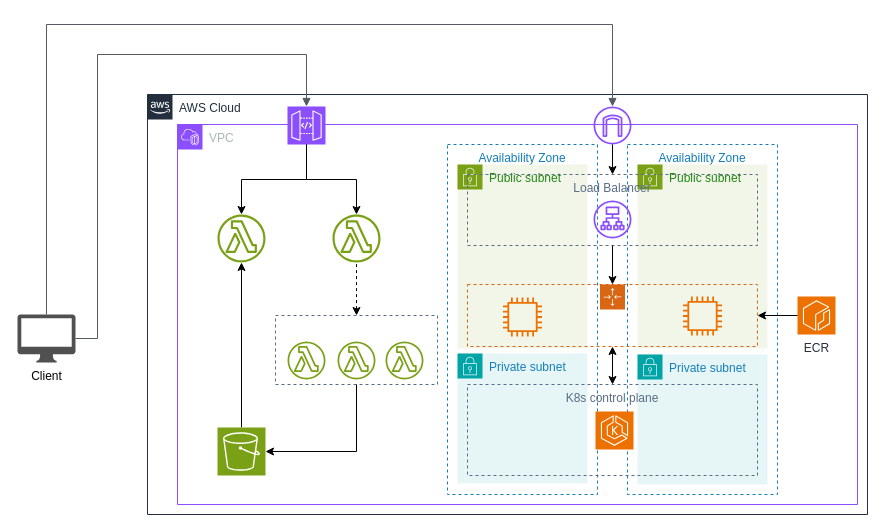
Some shapes in this 885 by 532 pixel diagram are drawn without their labels. The box of each missing label's shape, as (x1, y1, x2, y2) in pixels:
/getImage: (217, 214, 265, 262)
/processImage: (332, 214, 380, 262)
EKS: (594, 410, 634, 450)
K8s nodes: (466, 284, 758, 346)
Results bucket: (216, 426, 266, 476)
Transformations: (274, 314, 438, 384)
